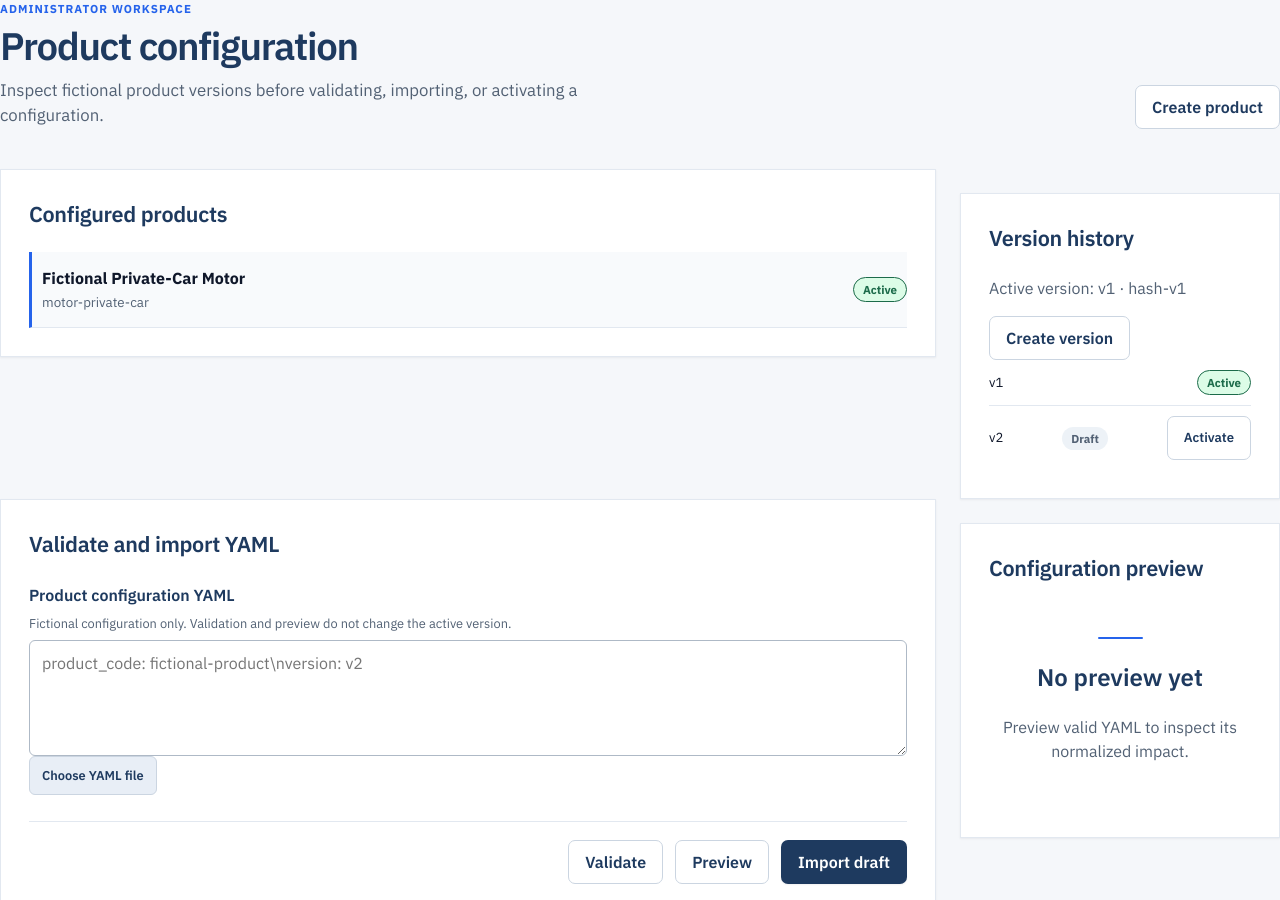
Test: product activation › leaves the version alone when cancelled
What coordinates should you click on to do the following:
click the button "Activate"
I would click on:
 (1209, 438)
Its box is top-left (1167, 416), bottom-right (1251, 460).
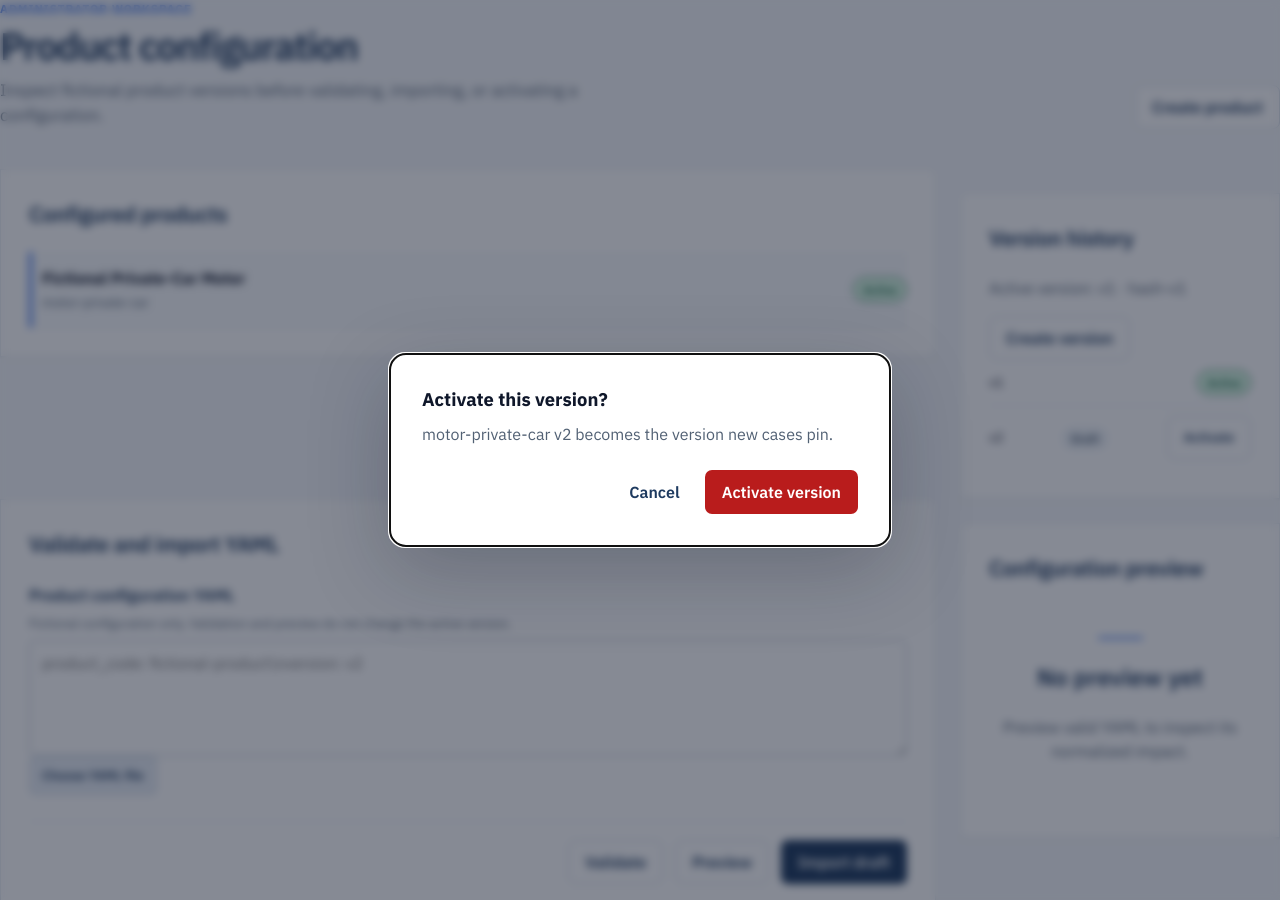
What coordinates should you click on to do the following:
click the button "Cancel"
I would click on:
 (654, 492)
Its box is top-left (612, 470), bottom-right (697, 514).
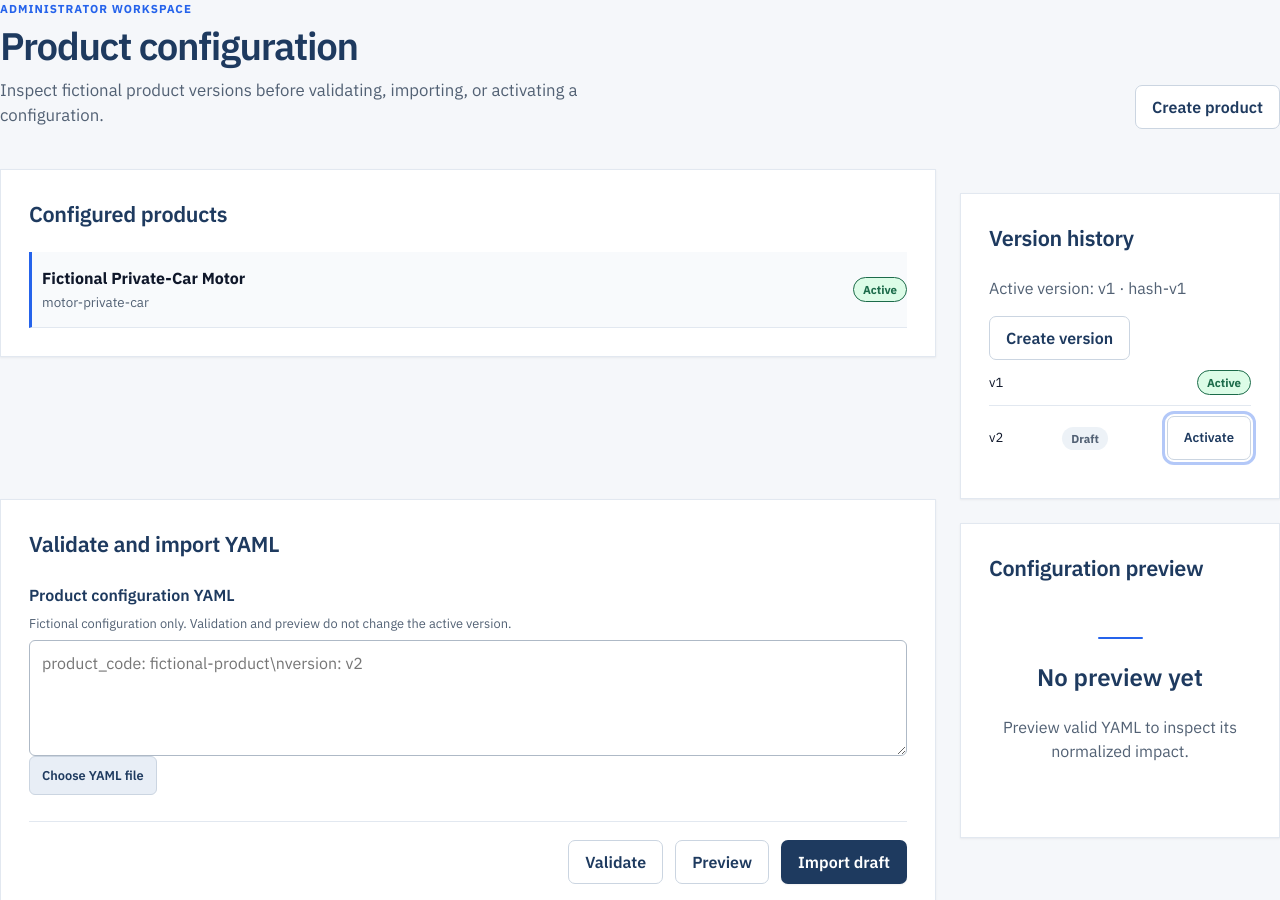
Expected: the dialog is gone
